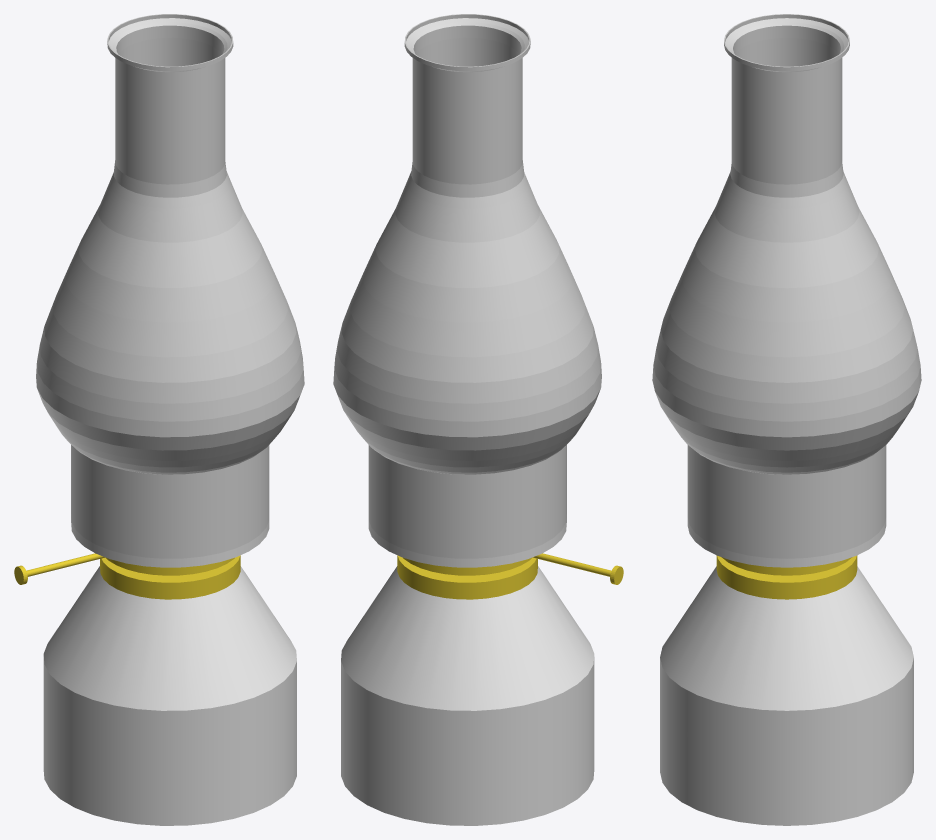
File: petroliumLamp.fbx
3 views of the same model, side by side, from view 1: azimuth 30°, elevation 25°; view 2: azimuth 150°, elevation 25°; view 3: azimuth 270°, elevation 25° (orthographic).
Parts seen in each view (by area): view 1: BézierCurve.001; view 2: BézierCurve.001; view 3: BézierCurve.001.
Boxes of the visible parts, x1,y1,x2,y2 form: BézierCurve.001: (14,14,304,825); BézierCurve.001: (333,14,623,825); BézierCurve.001: (652,14,921,825).
Bounding box in the file's own units: 244 × 636 × 212.
